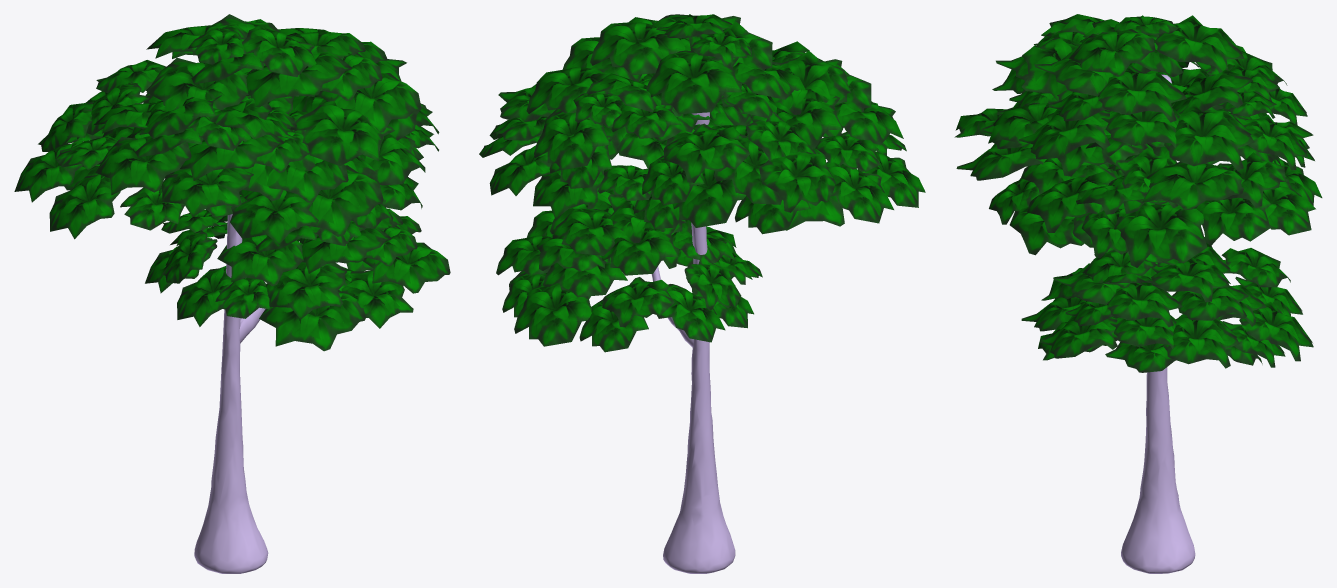
The model's file is SM_Tree01.fbx.
The picture shows the model from 3 angles, left to right: view 1: azimuth 30°, elevation 25°; view 2: azimuth 150°, elevation 25°; view 3: azimuth 270°, elevation 25°; orthographic projection. The views are drawn at different scales.
Parts seen in each view (by area): view 1: SM_Tree01; view 2: SM_Tree01; view 3: SM_Tree01.
Part boxes in pixels (x1,y1,x2,y2): SM_Tree01: (14,14,450,573); SM_Tree01: (479,14,925,573); SM_Tree01: (954,14,1322,573).
Bounding box in the file's own units: 347 × 436 × 271.
